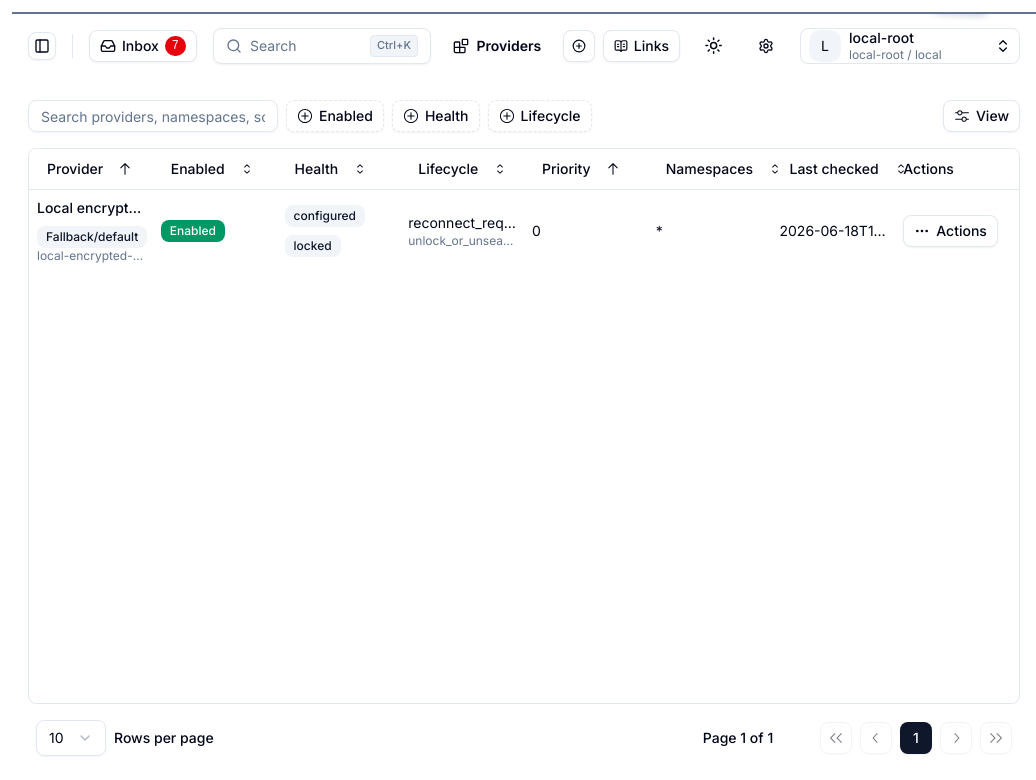
Test case: Secrets Broker root redirect › blocks local fallback provider remove and disable from the row action menu
expect the text "Fallback/default" is shown: met, box [37,226,147,248]
Click the button "Actions" at (951, 230), box [903,214,998,246]
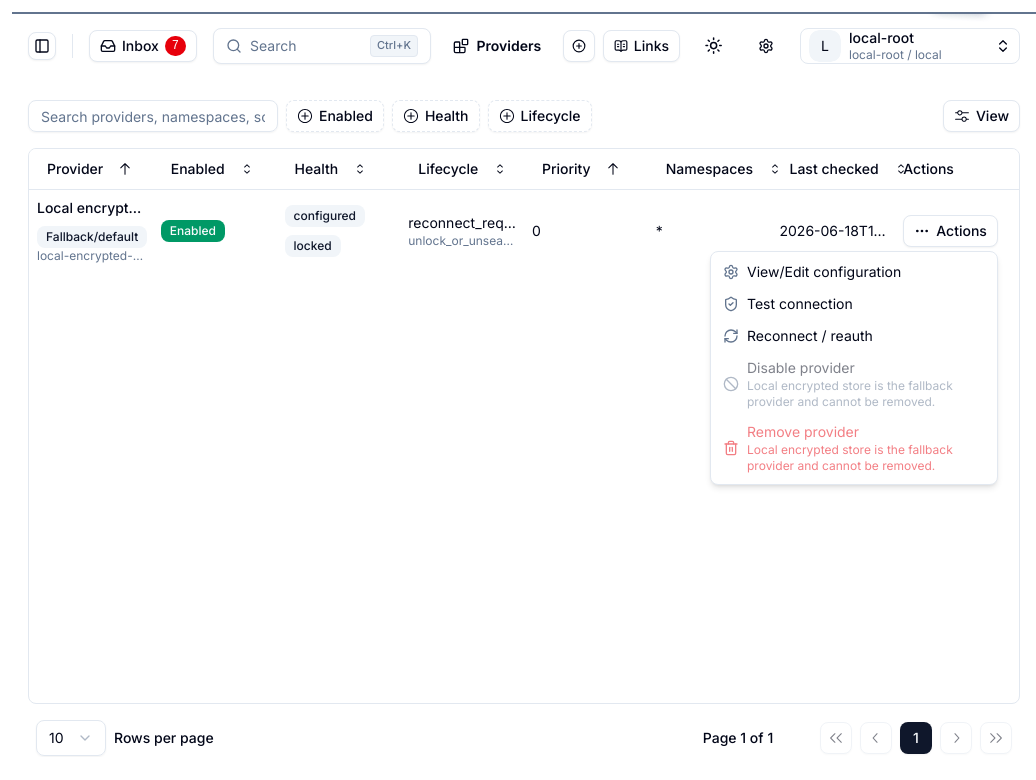
Click the menu item "Test connection" at (788, 304), box [723,295,853,312]
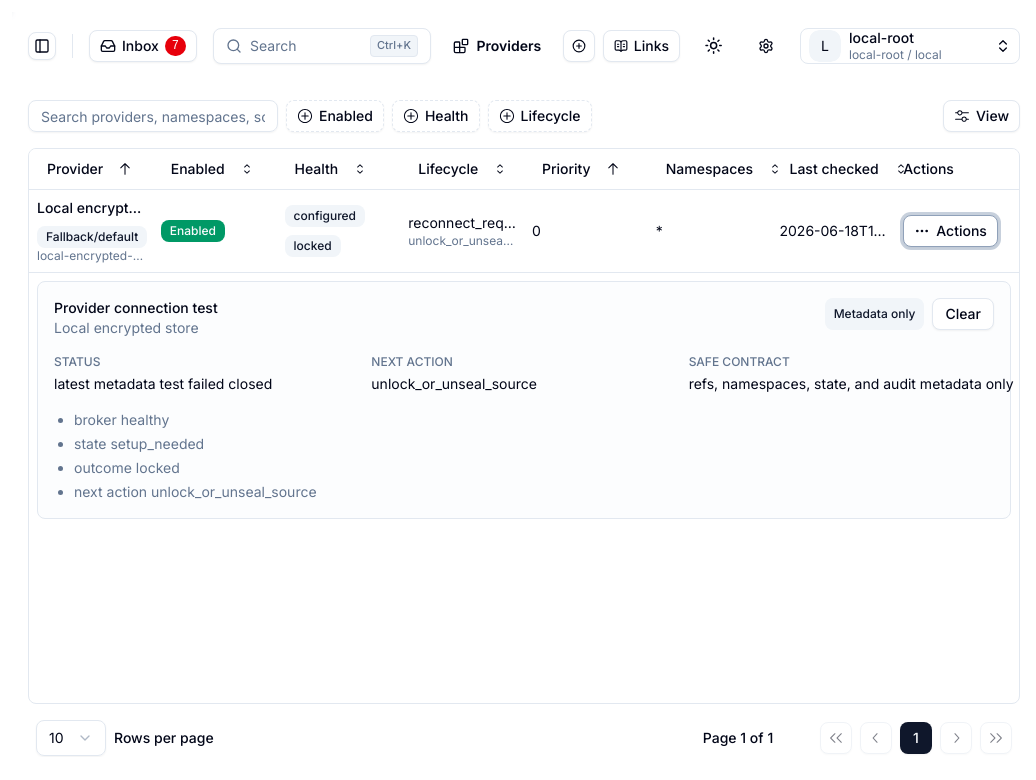
expect the text "Local encrypted store" next to "configured" is shown: met, box [37,198,183,216]
expect the element named "Provider action detail" is shown: met, box [37,280,1011,518]
expect the text "latest metadata test failed closed" is shown: met, box [54,374,272,392]
